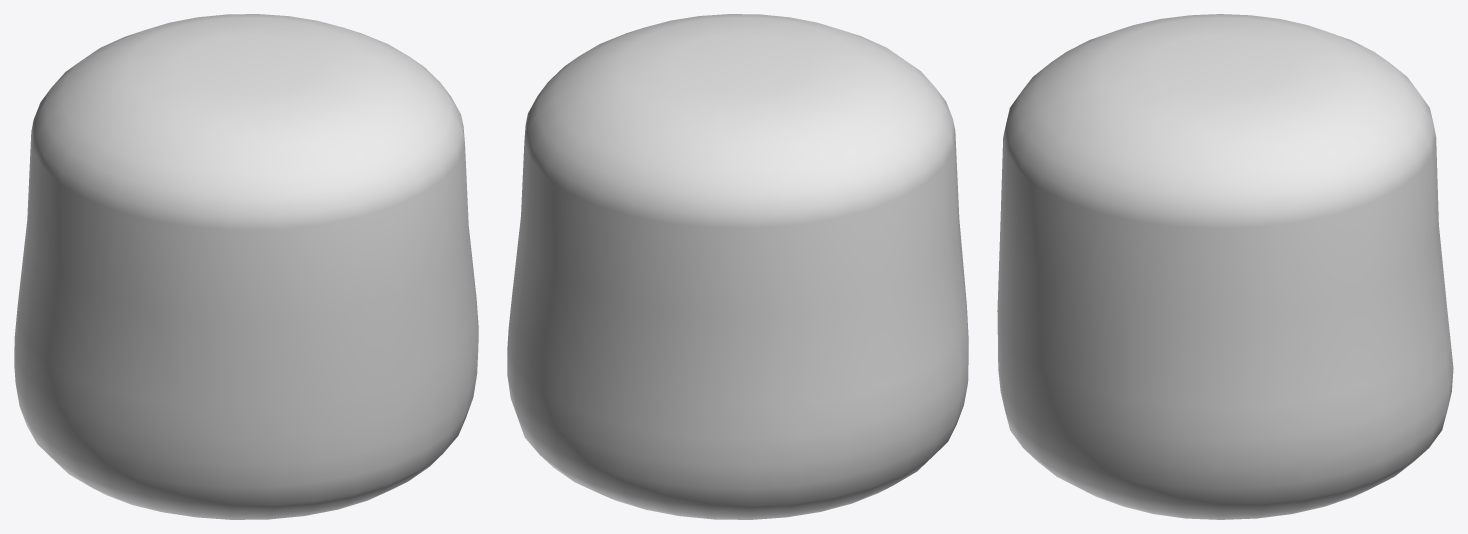
The model's file is 05-Whimsy-Mochi-doll-Worry-Pout-swirls-face-face.glb.
3 renders of one model, left to right at view 1: azimuth 30°, elevation 25°; view 2: azimuth 150°, elevation 25°; view 3: azimuth 270°, elevation 25°, orthographic.
Visible parts, largest first — view 1: 05-Whimsy-Mochi-doll-Worry-Pout-swirls-face-face; view 2: 05-Whimsy-Mochi-doll-Worry-Pout-swirls-face-face; view 3: 05-Whimsy-Mochi-doll-Worry-Pout-swirls-face-face.
Boxes of the visible parts, x1=… form: 05-Whimsy-Mochi-doll-Worry-Pout-swirls-face-face: x1=14, y1=14, x2=478, y2=519; 05-Whimsy-Mochi-doll-Worry-Pout-swirls-face-face: x1=507, y1=14, x2=968, y2=519; 05-Whimsy-Mochi-doll-Worry-Pout-swirls-face-face: x1=997, y1=14, x2=1453, y2=519.
Size of the model in its own units: 1.23 by 1.18 by 1.2.
1 material, 1 textured.
